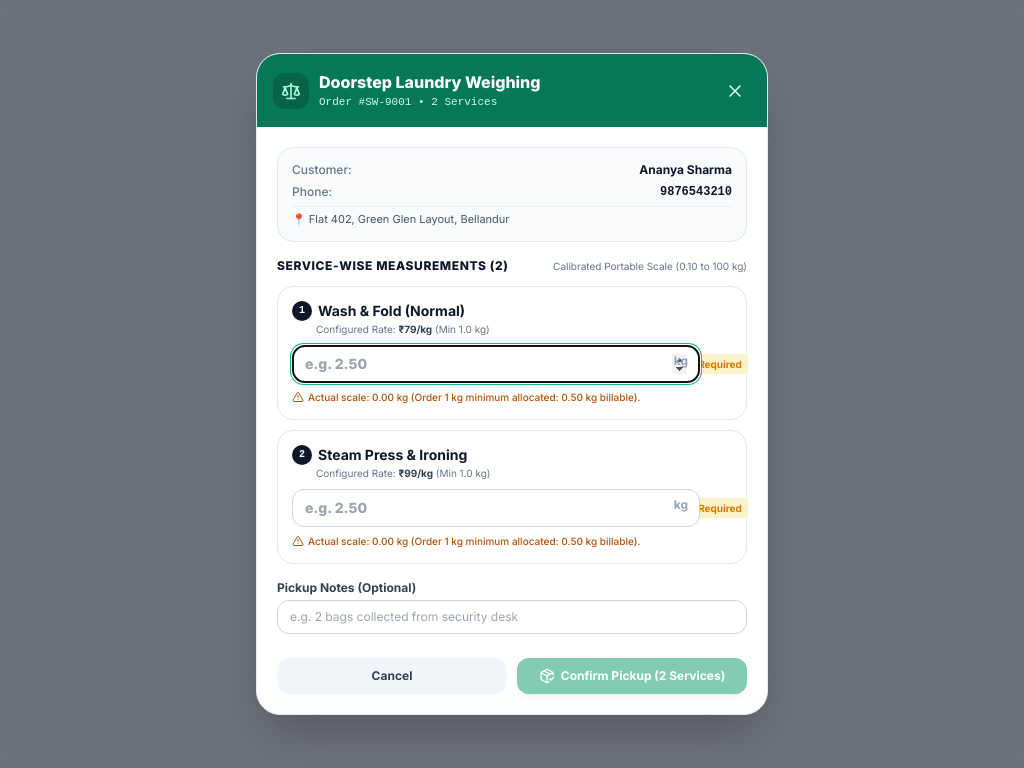
Test: Service-Wise Weighing, Order Calculation & Invoice Workflow (Section 6 Verification) › 16. DoorstepWeighingModal live summary updates as weights are entered
The width and height of the screenshot is (1024, 768).
Type "2.50" into the number field with test id "scale-input-item-001" at (496,364), box [292,345,700,383]
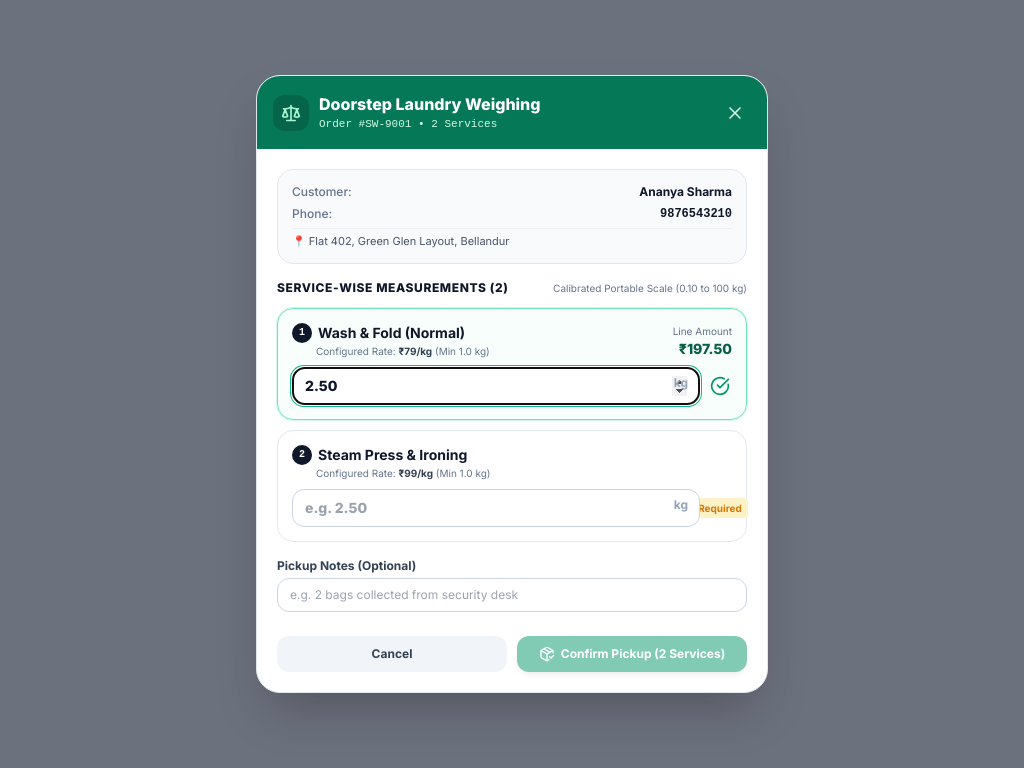
Type "1.75" into the number field with test id "scale-input-item-002" at (496,508), box [292,489,700,527]
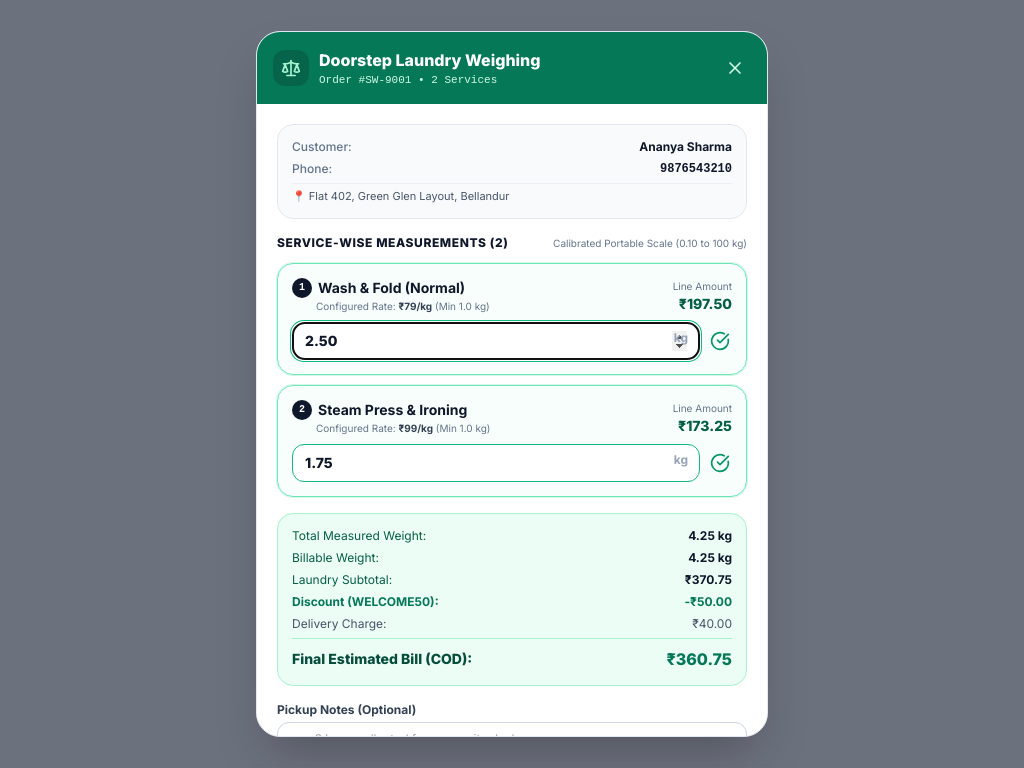
Check: the text "₹360.75" is shown, box [666,647,732,671]
